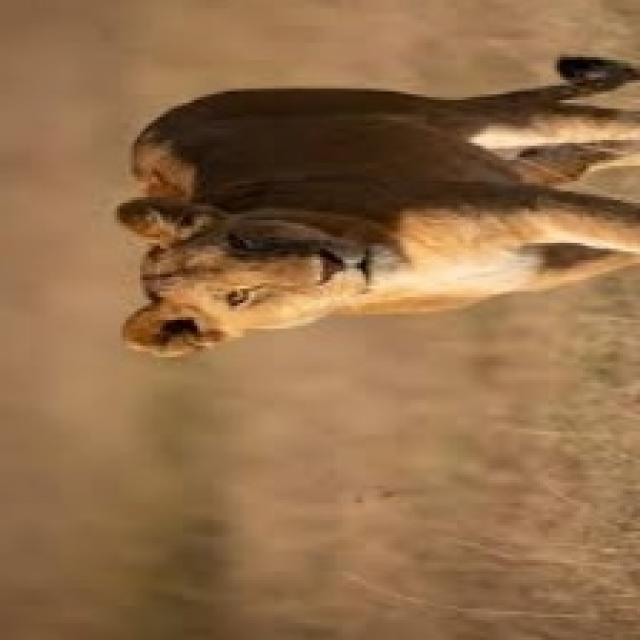animal: (98, 42, 640, 424)
